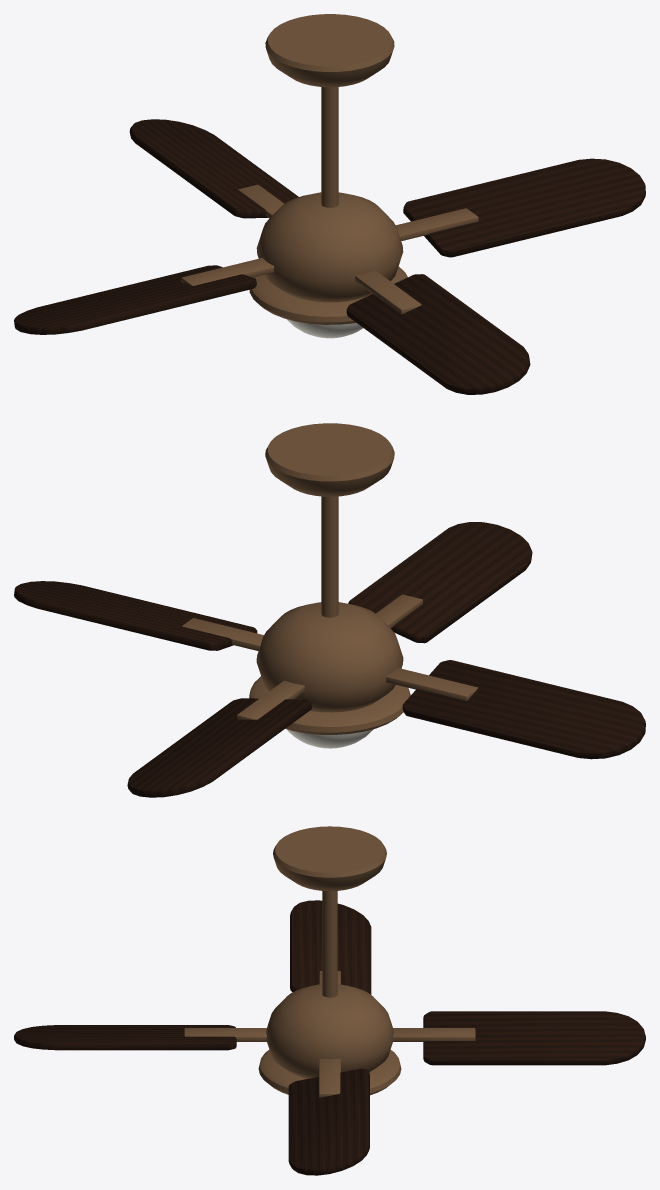
Rendered from ceilingFan.glb.
The picture shows the model from 3 angles, top to bottom: view 1: azimuth 30°, elevation 25°; view 2: azimuth 150°, elevation 25°; view 3: azimuth 270°, elevation 25°; orthographic projection. The views are drawn at different scales.
Visible parts, largest first — view 1: Blades, Fixture; view 2: Blades, Fixture; view 3: Blades, Fixture.
Part boxes in pixels (x1=…): Blades: x1=14, y1=119, x2=645, y2=394; Fixture: x1=249, y1=14, x2=407, y2=338; Blades: x1=14, y1=522, x2=645, y2=797; Fixture: x1=249, y1=423, x2=410, y2=748; Blades: x1=14, y1=900, x2=645, y2=1175; Fixture: x1=258, y1=826, x2=401, y2=1095.
Bounding box in the file's own units: 1.15 × 0.518 × 1.15.
3 materials, 1 textured.
